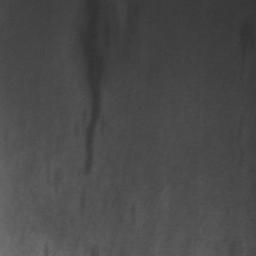Inclusion: (79, 0, 106, 174)
